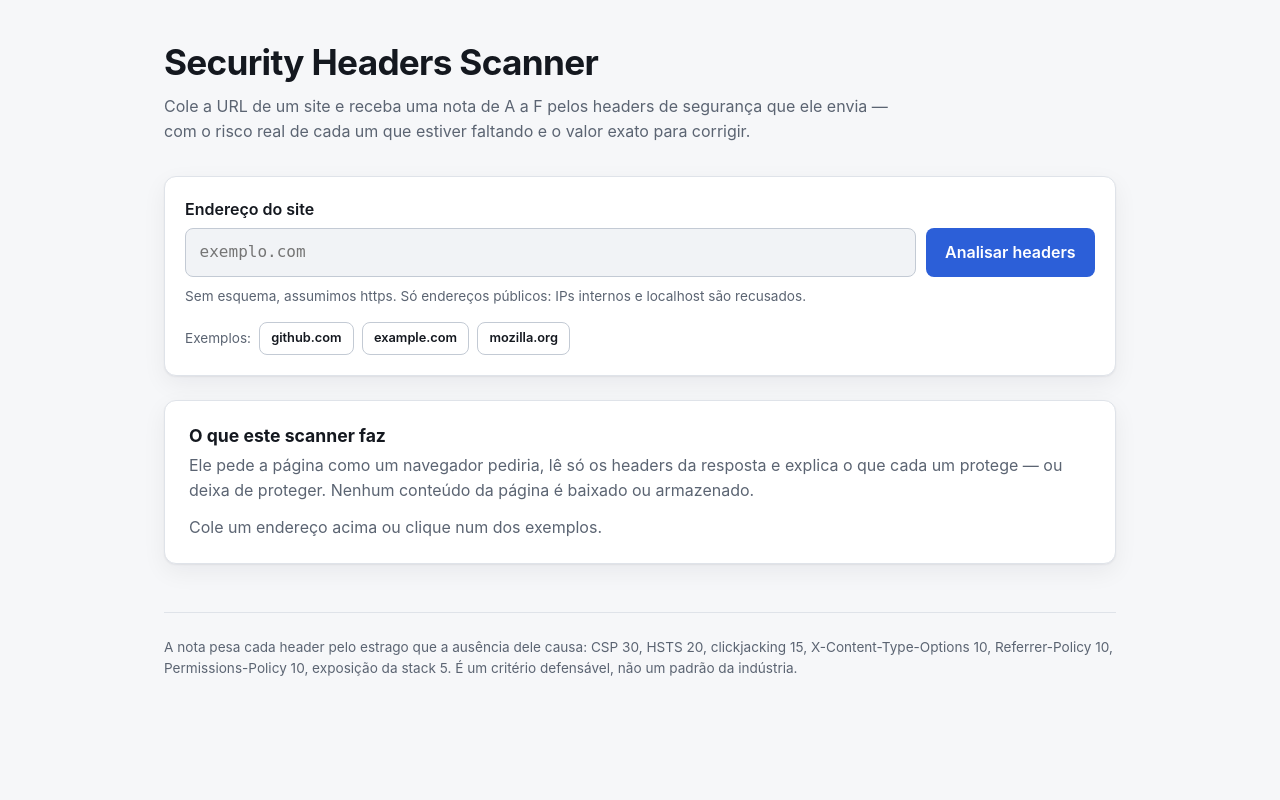
it: App › reports a rate limit with the wait time
Type "example.com" into the field labelled "Endereço do site" at (551, 253), box [185,228,916,277]
Then press Enter
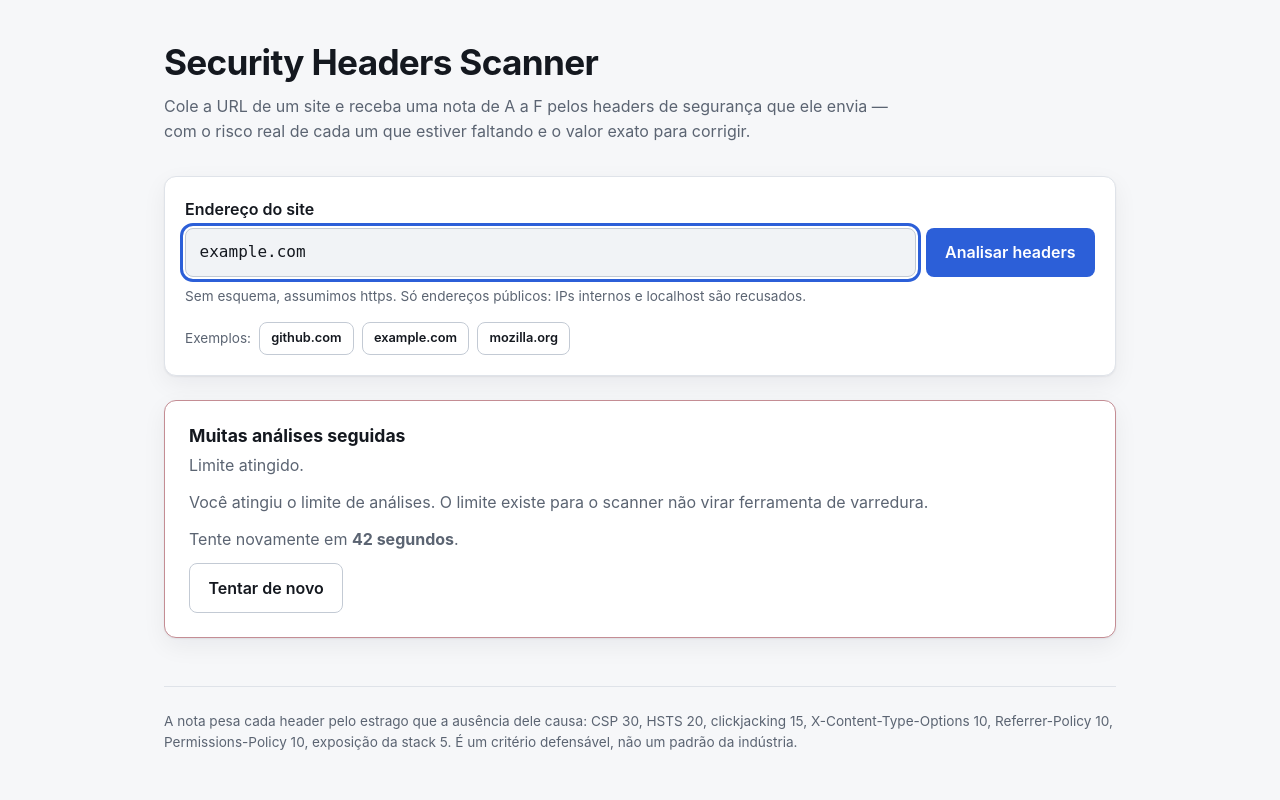
Result: the heading "Muitas análises seguidas" is shown at [189,425,406,446]
Result: the text "42 segundos" is shown at [352,529,454,549]
